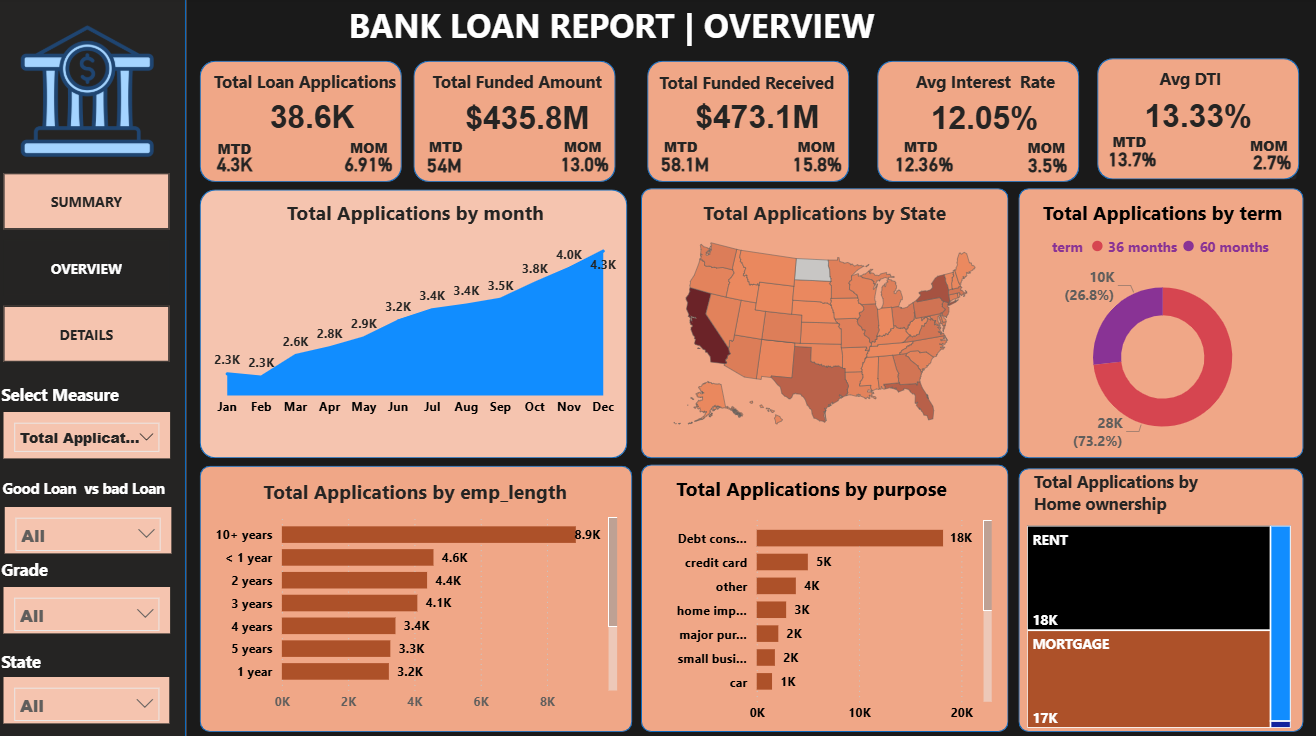

Layout of this report page (visuals, bound fields, positions):
{"tool":"powerbi","page":{"name":"OVERVIEW","canvas":[1280,720],"ordinal":1},"visuals":[{"type":"shape","box":[196.6,452.4,417.4,257],"z":0},{"type":"shape","box":[1.2,0,182.2,720.2],"z":1000},{"type":"shape","box":[850.5,61.5,195,117],"z":1000,"group":"g3"},{"type":"shape","box":[1062.9,59.1,195,117],"z":2000,"group":"g2"},{"type":"shape","box":[196.6,185.8,412.6,259.4],"z":2000},{"type":"shape","box":[628.2,61.8,195,117],"z":3000,"group":"g4"},{"type":"shape","box":[986.9,454.8,275.1,254.6],"z":3000},{"type":"shape","box":[622.5,451.2,354.7,258.2],"z":4000},{"type":"shape","box":[196.6,61.5,195,117],"z":5000,"group":"g1"},{"type":"shape","box":[403.1,61.5,195,117],"z":5000},{"type":"shape","box":[622.5,184.6,354.7,260.6],"z":6000},{"type":"barChart","fields":{"Category":["financial_loan (1) (1).purpose"],"Y":["financial_loan (1) (1).Total Applications"]},"box":[639.4,492.2,326.9,217.2],"z":7000},{"type":"barChart","fields":{"Category":["financial_loan (1) (1).emp_length"],"Y":["financial_loan (1) (1).Total Applications"]},"box":[205.1,464.5,399.3,234],"z":8000},{"type":"textbox","box":[335.4,0,762.5,53.1],"z":9000},{"type":"treemap","fields":{"Values":["financial_loan (1) (1).Total Applications"],"Group":["financial_loan (1) (1).home_ownership"]},"box":[990.5,505.5,264.2,205.1],"z":10000},{"type":"image","box":[16.9,20.5,142.4,141.2],"z":11000},{"type":"shapeMap","fields":{"Value":["financial_loan (1) (1).Total Applications"],"Category":["financial_loan (1) (1).address_state"]},"box":[633.4,195.4,333,234],"z":12000},{"type":"textbox","box":[1089.4,63.9,165.3,33.8],"z":13000},{"type":"card","fields":{"Values":["financial_loan (1) (1).avg_dti"]},"box":[1104.6,89.9,139.9,45],"z":14000},{"type":"card","title":"Total Loan Applications","fields":{"Values":["financial_loan (1) (1).Total Applications"]},"box":[235,98,140,35.7],"z":14000,"group":"g1"},{"type":"card","fields":{"Values":["financial_loan (1) (1).dti_mom"]},"box":[1200.4,154.4,73.6,30.2],"z":15000},{"type":"card","fields":{"Values":["financial_loan (1) (1).SUM"]},"box":[664.6,98.3,140,35],"z":16000,"group":"g4"},{"type":"textbox","box":[1211.3,139.9,68.8,30.2],"z":16000},{"type":"card","fields":{"Values":["financial_loan (1) (1).Total Funded Amount"]},"box":[443,98.4,140,35],"z":17000},{"type":"group","id":"g1","title":"Group 1","box":[196.6,61.5,207.5,117],"z":18000},{"type":"card","fields":{"Values":["financial_loan (1) (1).avg_int"]},"box":[884.1,98.3,140,35],"z":18000,"group":"g3"},{"type":"group","id":"g2","title":"Group 2","box":[1062.9,59.1,199.1,117],"z":19000},{"type":"card","fields":{"Values":["financial_loan (1) (1).avg_dti"]},"box":[1091.2,95.9,140,35],"z":19000,"group":"g2"},{"type":"textbox","box":[204.8,65.4,199.1,32.6],"z":20000,"group":"g1"},{"type":"areaChart","fields":{"Y2":["financial_loan (1) (1).Total Applications"],"Category":["Date Table.month"]},"box":[205.1,195.4,399.3,218.4],"z":20000},{"type":"shape","box":[986.9,184.6,275.1,260.6],"z":21000},{"type":"donutChart","fields":{"Y":["financial_loan (1) (1).Total Applications"],"Category":["financial_loan (1) (1).term"]},"box":[995.3,195.4,261.8,249.7],"z":22000},{"type":"slicer","fields":{"Values":["financial_loan (1) (1).address_state"]},"box":[6.8,656.3,160,45],"z":23000},{"type":"slicer","fields":{"Values":["financial_loan (1) (1).grade"]},"box":[6.8,569.4,160.5,44.6],"z":24000},{"type":"textbox","box":[0,624.9,83.2,31.4],"z":25000},{"type":"textbox","box":[628.8,66.6,189.4,42.2],"z":26000,"group":"g4"},{"type":"textbox","box":[0,536.9,98.9,32.6],"z":26000},{"type":"textbox","box":[860.5,65.4,187,32.6],"z":27000,"group":"g3"},{"type":"slicer","fields":{"Values":["financial_loan (1) (1).god_bad"]},"box":[8,492.2,160.5,44.6],"z":27000},{"type":"textbox","box":[1091.6,63,121.9,32.6],"z":28000,"group":"g2"},{"type":"textbox","box":[1.2,459.7,171.3,32.6],"z":28000},{"type":"slicer","fields":{"Values":["Select Measure.Select Measure"]},"box":[6.8,400.5,160.5,44.6],"z":29000},{"type":"textbox","box":[416.5,65.4,194.2,32.6],"z":30000},{"type":"card","fields":{"Values":["financial_loan (1) (1).TFA"]},"box":[403.1,148.3,59,26.1],"z":31000},{"type":"card","fields":{"Values":["financial_loan (1) (1).mom_3"]},"box":[537.6,146.9,60.4,30.2],"z":32000},{"type":"textbox","box":[412.8,130.5,49.4,30.2],"z":33000},{"type":"textbox","box":[543.1,130.5,49.4,30.2],"z":34000},{"type":"group","id":"g3","title":"Group 4","box":[628.2,61.5,419.3,117.3],"z":35000},{"type":"textbox","box":[0,368,165.3,32.6],"z":36000},{"type":"pageNavigator","box":[7.2,170.1,160,184.6],"z":37000},{"type":"textbox","box":[651.5,457.2,305.2,35],"z":37001},{"type":"textbox","box":[996.5,451.2,217.2,54.3],"z":37002},{"type":"card","fields":{"Values":["financial_loan (1) (1).currant_mtd."]},"box":[200.7,146.9,60.4,30.2],"z":41000,"group":"g1"},{"type":"card","fields":{"Values":["financial_loan (1) (1).mom"]},"box":[329.7,146.9,60.4,30.2],"z":42000,"group":"g1"},{"type":"textbox","box":[208.9,133.2,49.4,30.2],"z":43000,"group":"g1"},{"type":"textbox","box":[336.6,131.8,49.4,30.2],"z":44000,"group":"g1"},{"type":"card","fields":{"Values":["financial_loan (1) (1).TTL"]},"box":[633.7,146.9,60.4,30.2],"z":49000,"group":"g4"},{"type":"card","fields":{"Values":["financial_loan (1) (1).MOM_4"]},"box":[762.7,146.9,60.4,30.2],"z":50000,"group":"g4"},{"type":"textbox","box":[639.2,130.4,49.4,30.2],"z":51000,"group":"g4"},{"type":"textbox","box":[768.2,130.4,49.4,30.2],"z":52000,"group":"g4"},{"type":"card","fields":{"Values":["financial_loan (1) (1).avd_mtd"]},"box":[861.5,146.9,68.6,30.2],"z":53000,"group":"g3"},{"type":"card","fields":{"Values":["financial_loan (1) (1).avd_mom"]},"box":[985,148.3,59,30.2],"z":54000,"group":"g3"},{"type":"card","fields":{"Values":["financial_loan (1) (1).dti_mtd"]},"box":[1067,140.4,60.4,34.3],"z":55000,"group":"g2"},{"type":"card","fields":{"Values":["financial_loan (1) (1).dti_mom"]},"box":[1201.5,144.5,60.4,30.2],"z":56000,"group":"g2"},{"type":"textbox","box":[990.5,131.8,49.4,30.2],"z":57000,"group":"g3"},{"type":"textbox","box":[871.1,130.4,49.4,30.2],"z":58000,"group":"g3"},{"type":"textbox","box":[1205.6,129.4,49.4,30.2],"z":59000,"group":"g2"},{"type":"textbox","box":[1072.5,125.3,49.4,30.2],"z":60000,"group":"g2"},{"type":"group","id":"g4","title":"Group 3","box":[628.2,61.8,195,117],"z":62003,"group":"g3"}]}

Visuals, with their boxes in screenshot pixels (x1, y1, x2, y2), scaled from the page's 1280x720 canvas onto the 1316x736 screenshot:
shape: left=202, top=462, right=631, bottom=725
shape: left=1, top=0, right=189, bottom=735
shape: left=874, top=63, right=1075, bottom=182
shape: left=1093, top=60, right=1293, bottom=180
shape: left=202, top=190, right=626, bottom=455
shape: left=646, top=63, right=846, bottom=183
shape: left=1015, top=465, right=1297, bottom=725
shape: left=640, top=461, right=1005, bottom=725
shape: left=202, top=63, right=403, bottom=182
shape: left=414, top=63, right=615, bottom=182
shape: left=640, top=189, right=1005, bottom=455
barChart - financial_loan (1) (1).purpose x financial_loan (1) (1).Total Applications: left=657, top=503, right=993, bottom=725
barChart - financial_loan (1) (1).emp_length x financial_loan (1) (1).Total Applications: left=211, top=475, right=621, bottom=714
textbox: left=345, top=0, right=1129, bottom=54
treemap - financial_loan (1) (1).Total Applications x financial_loan (1) (1).home_ownership: left=1018, top=517, right=1290, bottom=726
image: left=17, top=21, right=164, bottom=165
shapeMap - financial_loan (1) (1).Total Applications x financial_loan (1) (1).address_state: left=651, top=200, right=994, bottom=439
textbox: left=1120, top=65, right=1290, bottom=100
card - financial_loan (1) (1).avg_dti: left=1136, top=92, right=1280, bottom=138
"Total Loan Applications" card: left=242, top=100, right=386, bottom=137
card - financial_loan (1) (1).dti_mom: left=1234, top=158, right=1310, bottom=189
card - financial_loan (1) (1).SUM: left=683, top=100, right=827, bottom=136
textbox: left=1245, top=143, right=1315, bottom=174
card - financial_loan (1) (1).Total Funded Amount: left=455, top=101, right=599, bottom=136
"Group 1" group: left=202, top=63, right=415, bottom=182
card - financial_loan (1) (1).avg_int: left=909, top=100, right=1053, bottom=136
"Group 2" group: left=1093, top=60, right=1297, bottom=180
card - financial_loan (1) (1).avg_dti: left=1122, top=98, right=1266, bottom=134
textbox: left=211, top=67, right=415, bottom=100
areaChart - financial_loan (1) (1).Total Applications x Date Table.month: left=211, top=200, right=621, bottom=423
shape: left=1015, top=189, right=1297, bottom=455
donutChart - financial_loan (1) (1).Total Applications x financial_loan (1) (1).term: left=1023, top=200, right=1292, bottom=455
slicer - financial_loan (1) (1).address_state: left=7, top=671, right=171, bottom=717
slicer - financial_loan (1) (1).grade: left=7, top=582, right=172, bottom=628
textbox: left=0, top=639, right=86, bottom=671
textbox: left=646, top=68, right=841, bottom=111
textbox: left=0, top=549, right=102, bottom=582
textbox: left=885, top=67, right=1077, bottom=100
slicer - financial_loan (1) (1).god_bad: left=8, top=503, right=173, bottom=549
textbox: left=1122, top=64, right=1248, bottom=98
textbox: left=1, top=470, right=177, bottom=503
slicer - Select Measure.Select Measure: left=7, top=409, right=172, bottom=455
textbox: left=428, top=67, right=628, bottom=100
card - financial_loan (1) (1).TFA: left=414, top=152, right=475, bottom=178
card - financial_loan (1) (1).mom_3: left=553, top=150, right=615, bottom=181
textbox: left=424, top=133, right=475, bottom=164
textbox: left=558, top=133, right=609, bottom=164
"Group 4" group: left=646, top=63, right=1077, bottom=183
textbox: left=0, top=376, right=170, bottom=410
pageNavigator: left=7, top=174, right=172, bottom=363
textbox: left=670, top=467, right=984, bottom=503
textbox: left=1025, top=461, right=1248, bottom=517
card - financial_loan (1) (1).currant_mtd.: left=206, top=150, right=268, bottom=181
card - financial_loan (1) (1).mom: left=339, top=150, right=401, bottom=181
textbox: left=215, top=136, right=266, bottom=167
textbox: left=346, top=135, right=397, bottom=166
card - financial_loan (1) (1).TTL: left=652, top=150, right=714, bottom=181
card - financial_loan (1) (1).MOM_4: left=784, top=150, right=846, bottom=181
textbox: left=657, top=133, right=708, bottom=164
textbox: left=790, top=133, right=841, bottom=164
card - financial_loan (1) (1).avd_mtd: left=886, top=150, right=956, bottom=181
card - financial_loan (1) (1).avd_mom: left=1013, top=152, right=1073, bottom=182
card - financial_loan (1) (1).dti_mtd: left=1097, top=144, right=1159, bottom=179
card - financial_loan (1) (1).dti_mom: left=1235, top=148, right=1297, bottom=179
textbox: left=1018, top=135, right=1069, bottom=166
textbox: left=896, top=133, right=946, bottom=164
textbox: left=1240, top=132, right=1290, bottom=163
textbox: left=1103, top=128, right=1153, bottom=159
"Group 3" group: left=646, top=63, right=846, bottom=183
